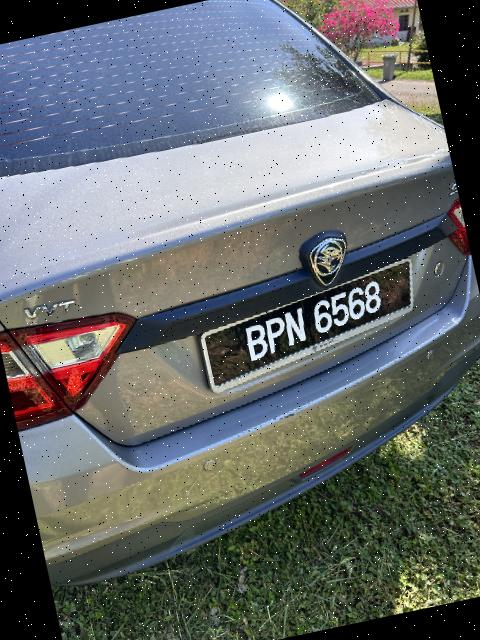License_Plate: (193, 251, 433, 404)
car: (1, 1, 480, 603)
